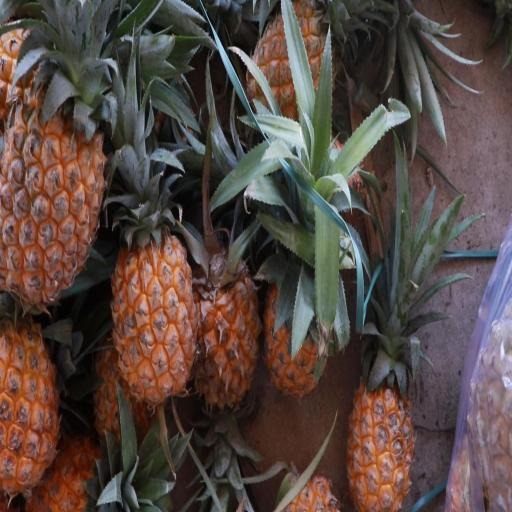Pineapple - v8 v1: (0, 56, 113, 313), (108, 224, 198, 407), (238, 0, 345, 146), (0, 319, 77, 504), (260, 239, 336, 415), (192, 236, 264, 421), (343, 343, 418, 511)
